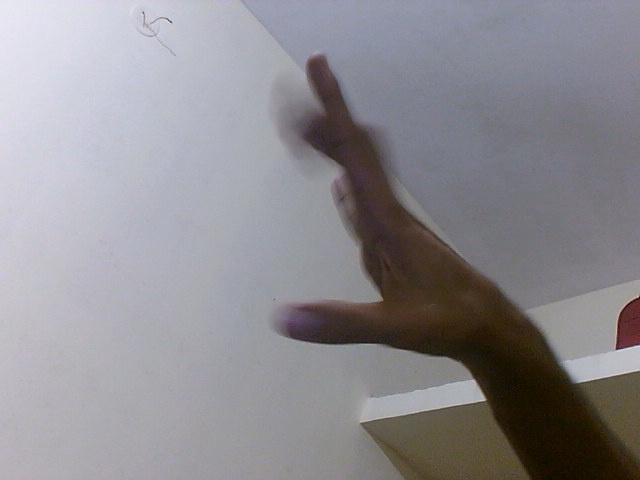hand: (269, 48, 525, 381)
